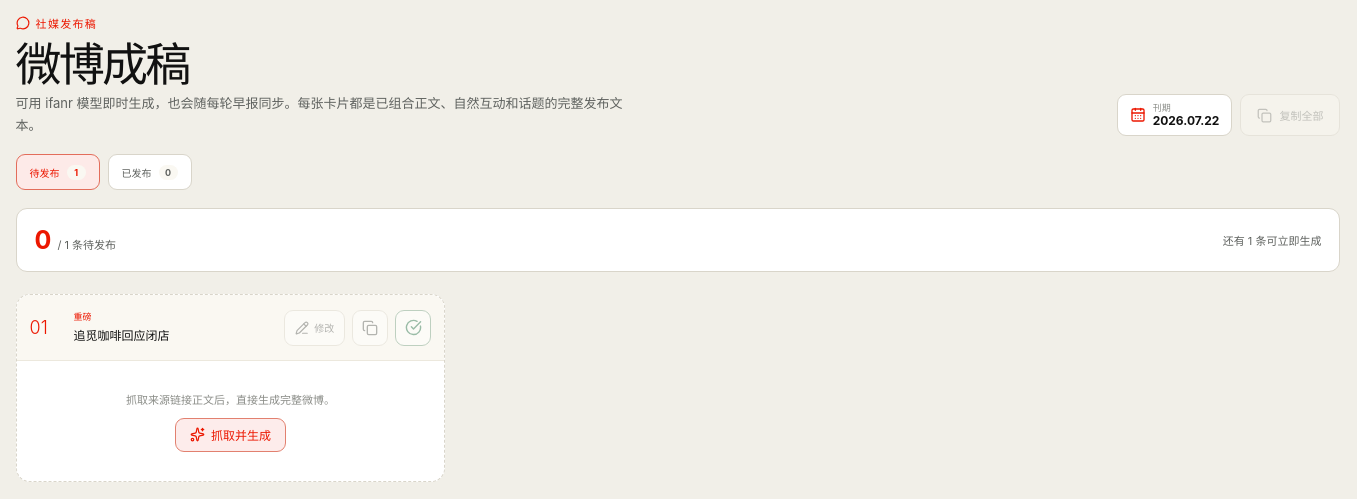
Test: App › extracts a manually submitted source link before generating its Weibo post
The width and height of the screenshot is (1357, 499).
Expected: the text "追觅咖啡回应闭店" is shown, [74, 328, 170, 344]
Click the button "抓取并生成" at (230, 435), box [175, 418, 286, 452]
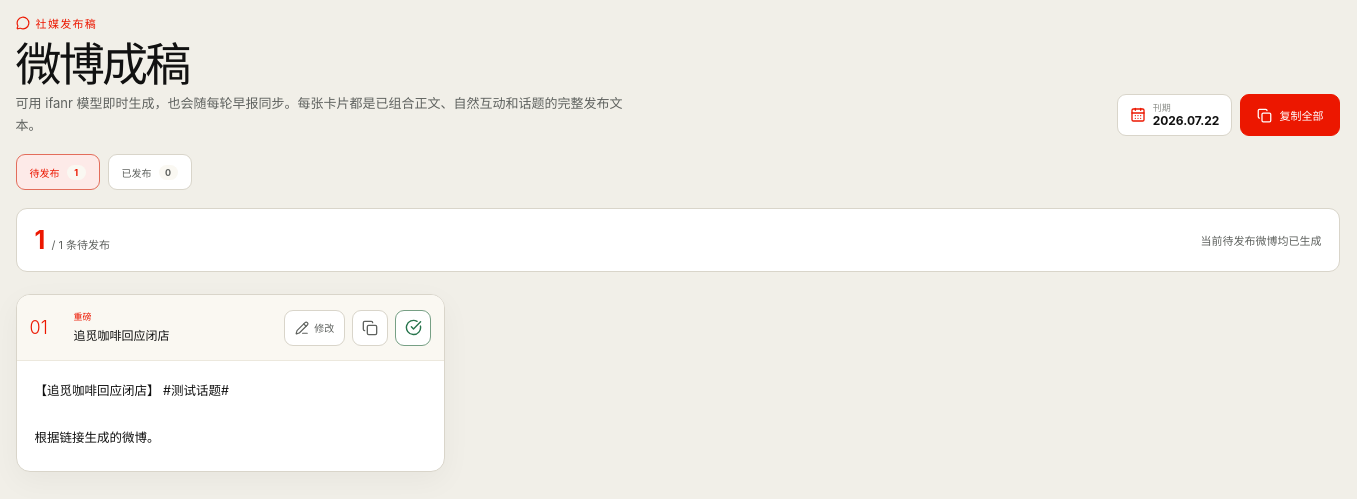
Expected: the text "【追觅咖啡回应闭店】 #测试话题# 根据链接生成的微博。" is shown, [35, 383, 229, 445]
